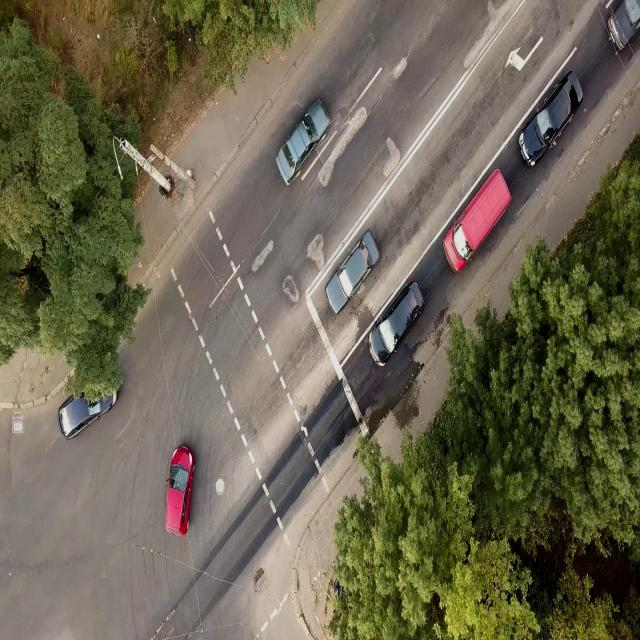Car: (518, 70, 586, 170), (370, 277, 428, 370), (57, 365, 120, 445), (275, 95, 331, 185), (325, 228, 383, 313), (163, 446, 198, 539), (607, 0, 640, 56)
Van: (441, 168, 512, 280)
